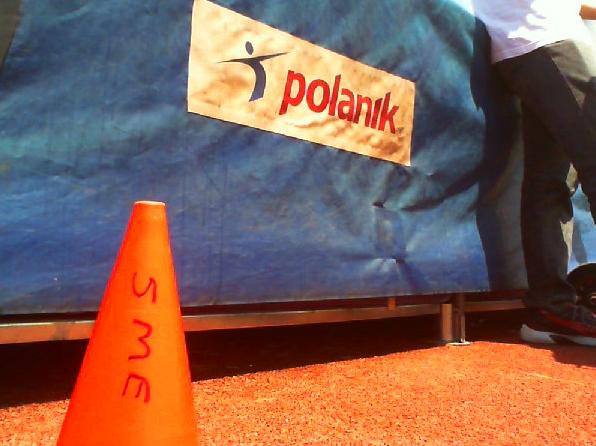0 cone: (53, 200, 201, 446)
